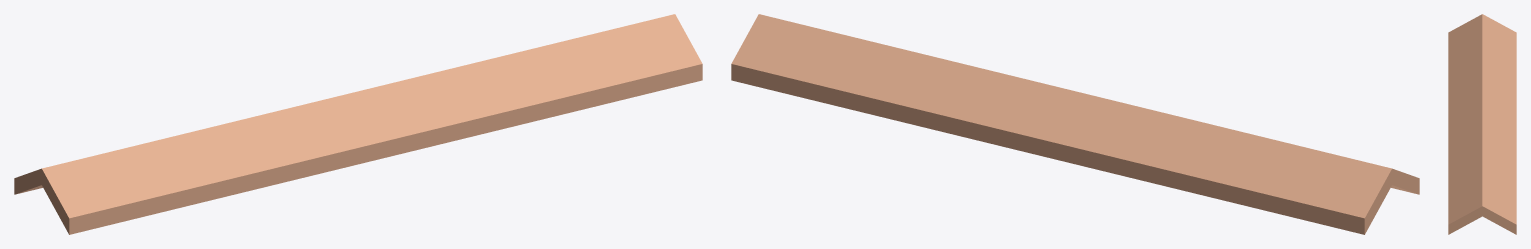
Rendered from tennis-club-and-courts-clubhouse-ridge-cap-5fad54ff__33638.glb.
3 views of the same model, side by side, from view 1: azimuth 30°, elevation 25°; view 2: azimuth 150°, elevation 25°; view 3: azimuth 270°, elevation 25° (orthographic). The views are drawn at different scales.
Parts seen in each view (by area): view 1: clubhouse-ridge-cap; view 2: clubhouse-ridge-cap; view 3: clubhouse-ridge-cap.
Boxes of the visible parts, <box> form: clubhouse-ridge-cap: <box>14,14,702,234</box>; clubhouse-ridge-cap: <box>731,14,1419,234</box>; clubhouse-ridge-cap: <box>1448,14,1516,234</box>.
Bounding box in the file's own units: 4 × 0.2798 × 0.6001.
